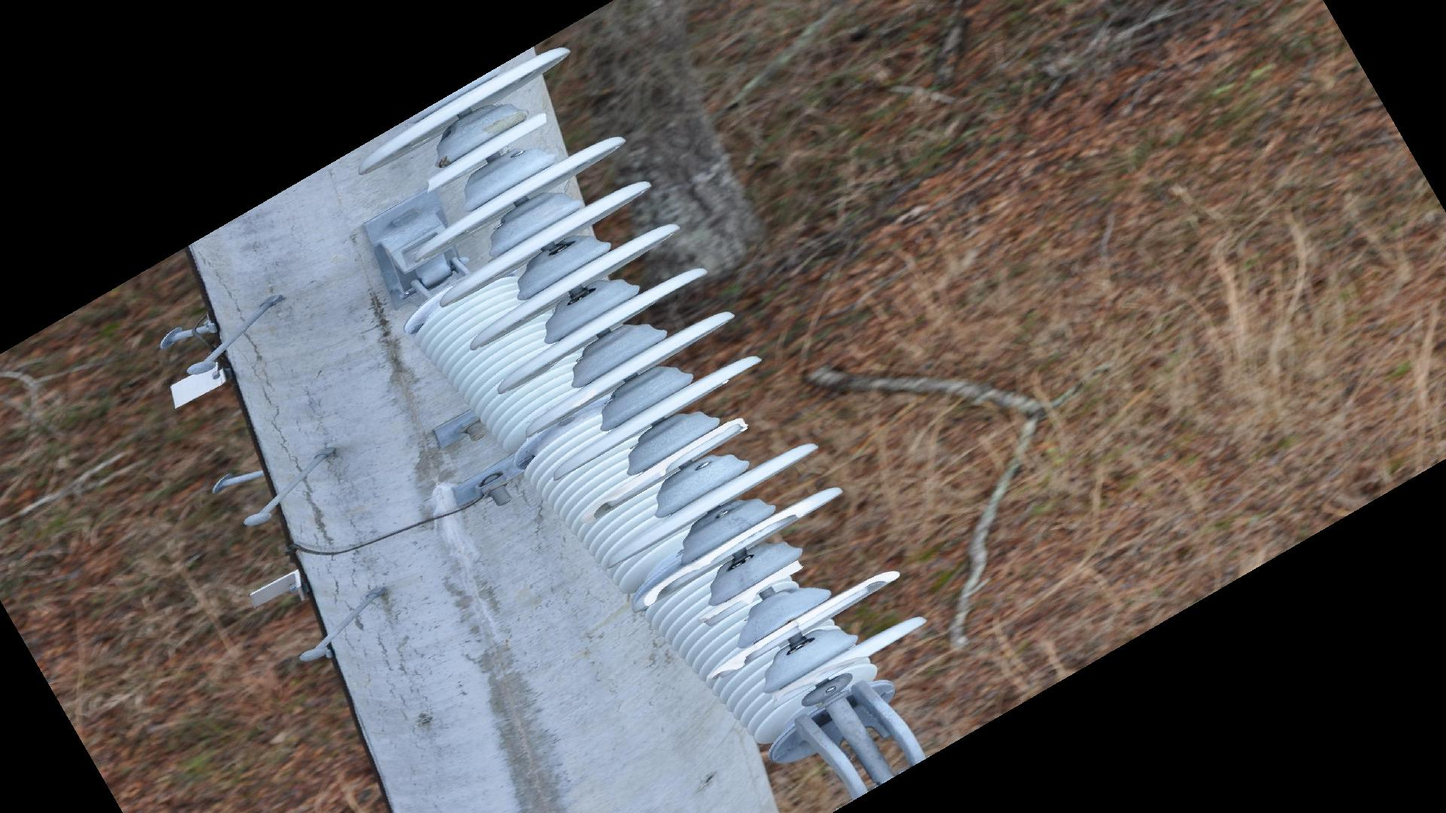insulator: (352, 40, 932, 715), (407, 271, 840, 752)
insulator_breakage: (700, 566, 903, 685), (580, 416, 750, 528), (639, 504, 807, 611), (421, 109, 550, 194), (700, 557, 807, 629), (770, 650, 873, 703)
